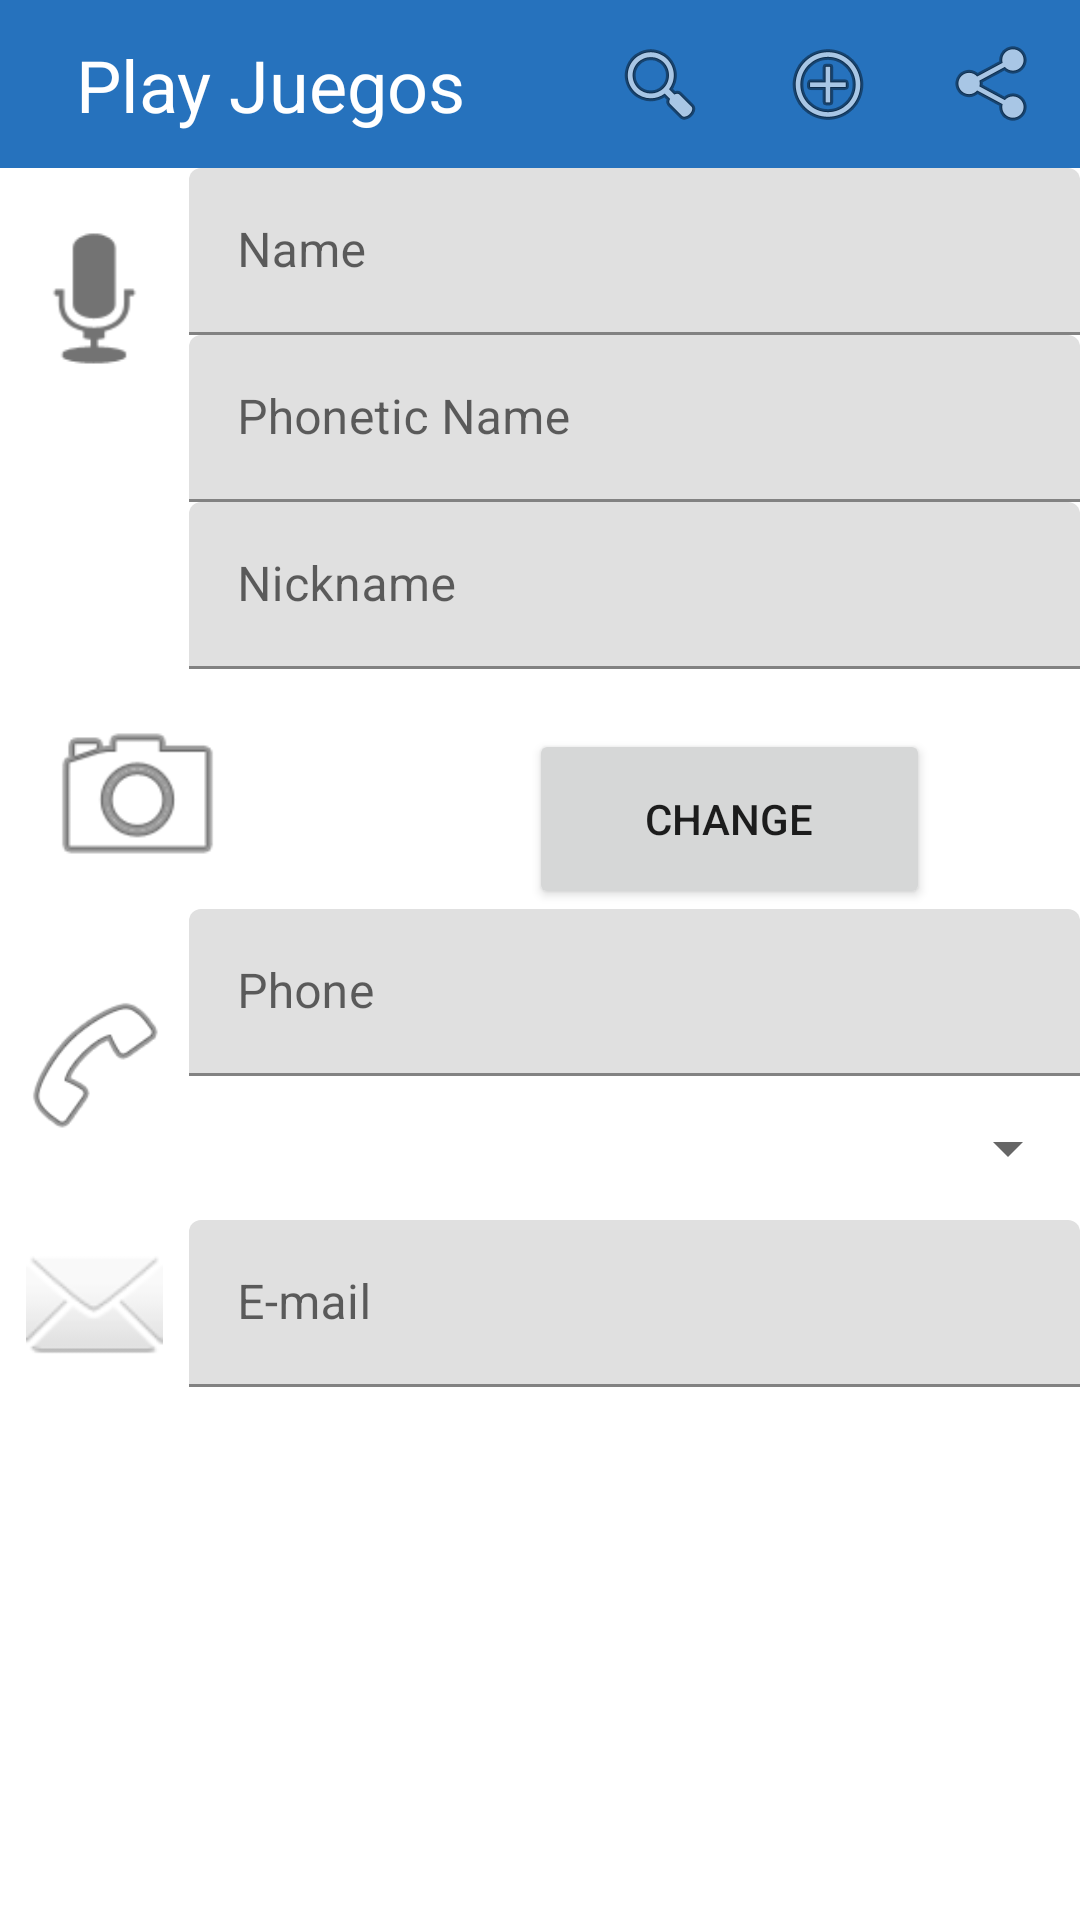

Where icons sit on this 1080 x 1920 app screen, as rect(x1, y1, x2, y2):
add: rect(792, 49, 864, 120)
call: rect(33, 1003, 158, 1128)
camera: rect(62, 733, 213, 854)
search: rect(625, 49, 695, 120)
share: rect(955, 46, 1027, 121)
speak now: rect(53, 233, 136, 364)
